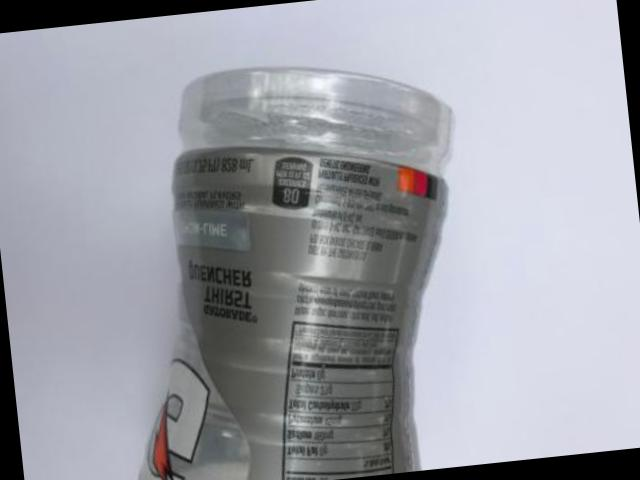plastic: (140, 65, 453, 480)
